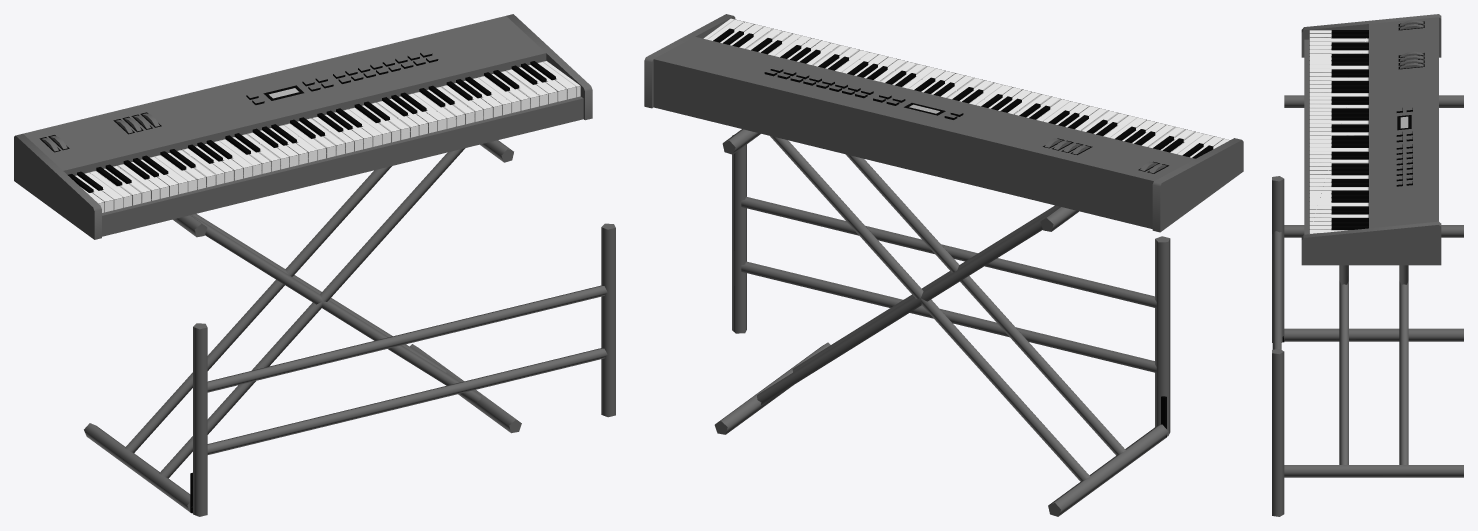
Rendered from keyboard.gltf.
3 views of the same model, side by side, from view 1: azimuth 30°, elevation 25°; view 2: azimuth 150°, elevation 25°; view 3: azimuth 270°, elevation 25° (orthographic). The views are drawn at different scales.
Visible parts, largest first — view 1: piano_keyboard, ID12, ID128 (×3), ID140 (×3), piano_leg (×2), ID116 (×2); view 2: piano_keyboard, ID140 (×3), ID128 (×3), ID12, piano_leg (×2), ID116 (×2); view 3: piano_keyboard, ID12, ID116 (×3), piano_leg (×3), ID140 (×2), ID128.
Boxes of the visible parts, x1,y1,x2,y2 form: piano_keyboard: (14,14,592,239); ID12: (75,60,580,212); ID128 (×3): (159,148,607,478); ID140 (×3): (125,166,607,452); piano_leg (×2): (84,323,207,516); ID116 (×2): (410,223,615,433); piano_keyboard: (644,14,1243,232); ID140 (×3): (741,136,1156,481); ID128 (×3): (741,154,1156,455); ID12: (703,18,1229,157); piano_leg (×2): (1048,236,1170,516); ID116 (×2): (714,135,830,434); piano_keyboard: (1301,14,1441,265); ID12: (1309,30,1368,234); ID116 (×3): (1272,225,1463,516); piano_leg (×3): (1272,95,1463,342); ID140 (×2): (1272,231,1408,464); ID128: (1339,280,1348,464).
Size of the model in its own units: 1.29 by 0.8128 by 0.4882.
Materials: 28 (1 with a texture image).
